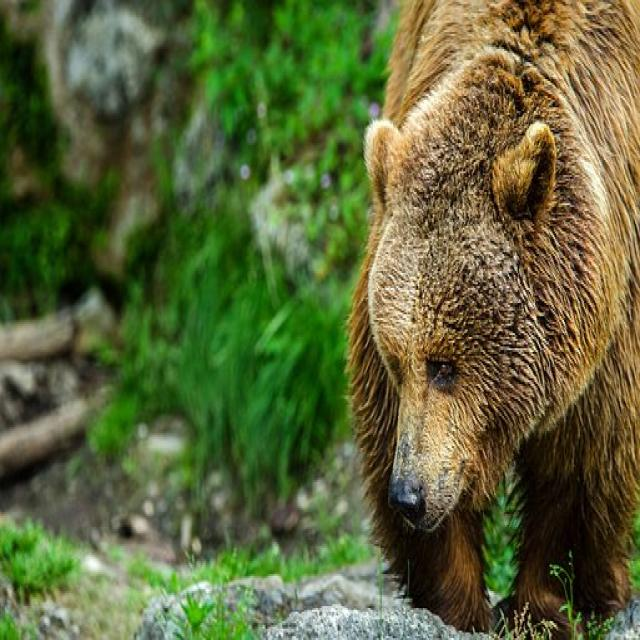Bear: (348, 0, 640, 640)
